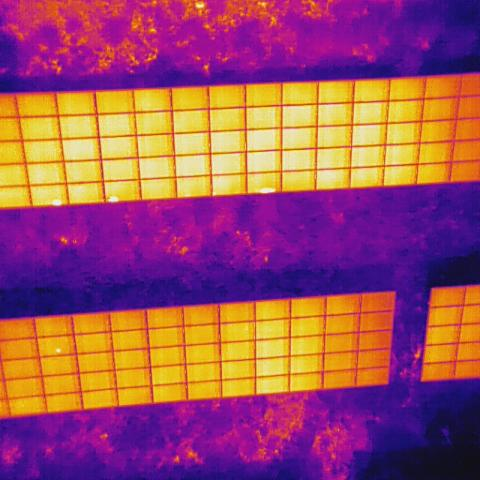fault: (256, 184, 278, 195), (106, 192, 122, 206), (50, 197, 63, 210), (54, 344, 65, 356)
